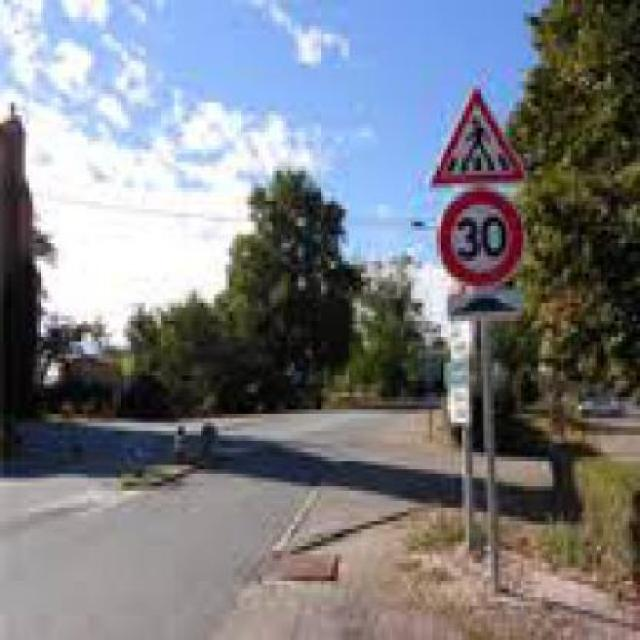Ograniczenie predkosci do 30: (436, 188, 527, 290)
